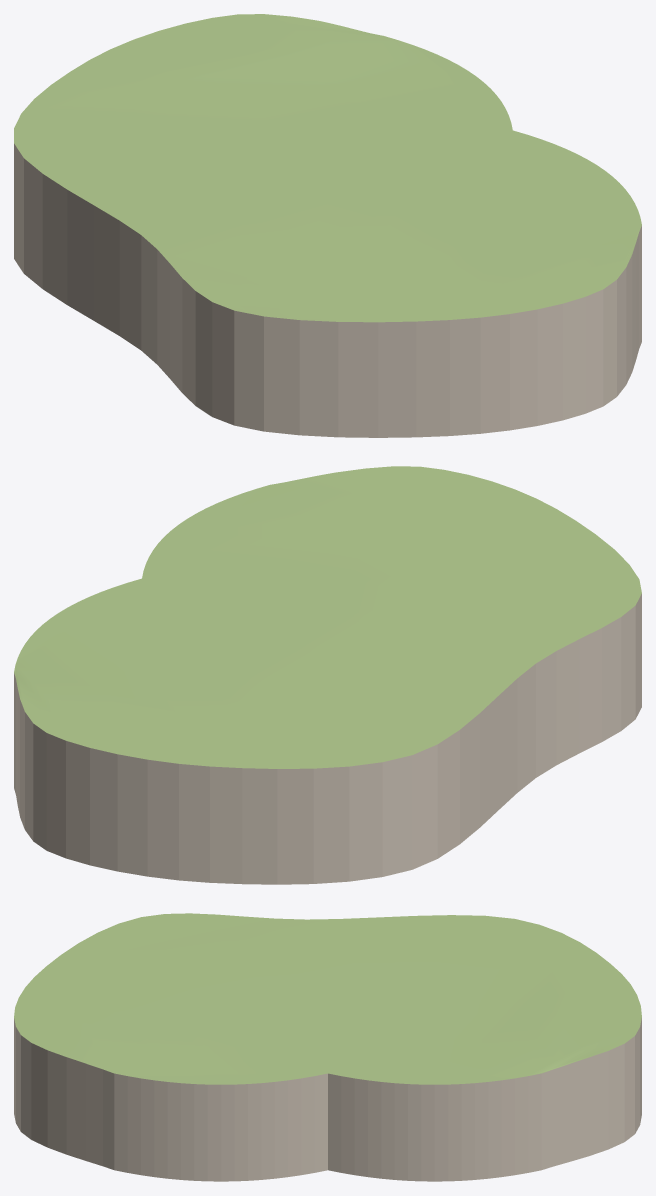
Rendered from baseline-source.glb.
3 views of the same model, one above another, from view 1: azimuth 30°, elevation 25°; view 2: azimuth 150°, elevation 25°; view 3: azimuth 270°, elevation 25° (orthographic). The views are drawn at different scales.
Parts seen in each view (by area): view 1: baseline/top, baseline/rounded-coast; view 2: baseline/top, baseline/rounded-coast; view 3: baseline/top, baseline/bank-south-seam, baseline/bank-north-seam, baseline/rounded-coast.
Part boxes in pixels (x1,y1,x2,y2): baseline/top: (14, 14, 641, 322); baseline/rounded-coast: (14, 143, 641, 437); baseline/top: (14, 466, 641, 768); baseline/rounded-coast: (14, 594, 641, 884); baseline/top: (14, 913, 641, 1084); baseline/bank-south-seam: (328, 1073, 541, 1181); baseline/bank-north-seam: (114, 1073, 327, 1181); baseline/rounded-coast: (14, 1018, 641, 1169).
Size of the model in its own units: 3.83 by 1.02 by 5.88.
